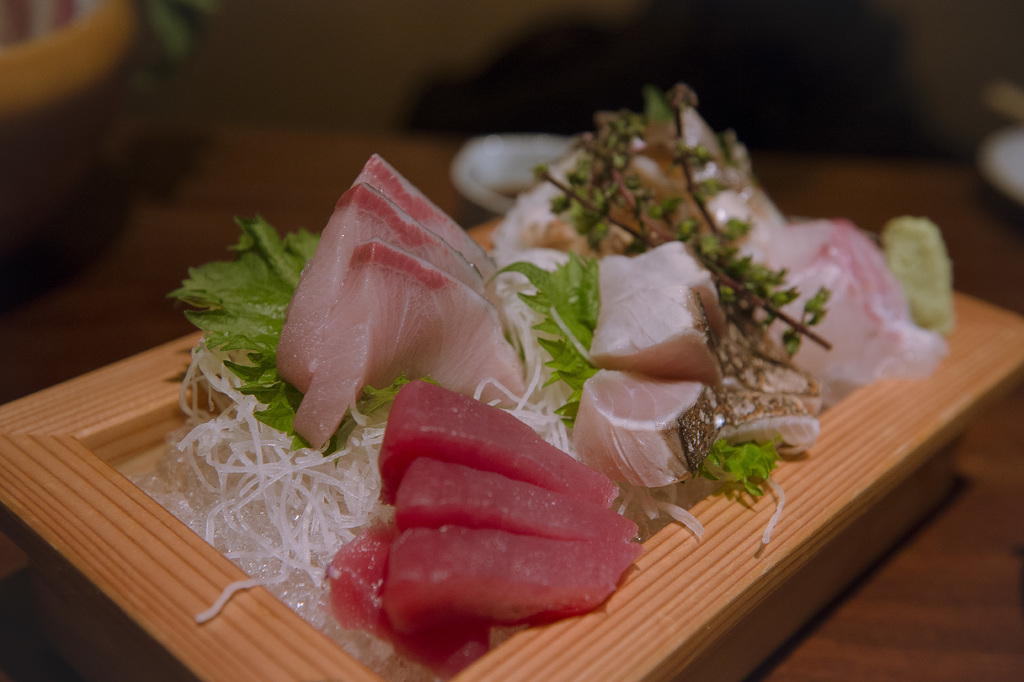person: (0, 0, 218, 339)
